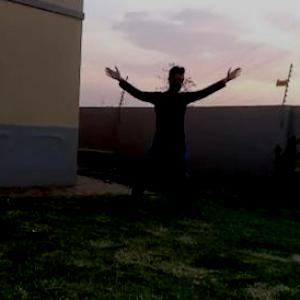takeoff: (104, 62, 245, 217)
